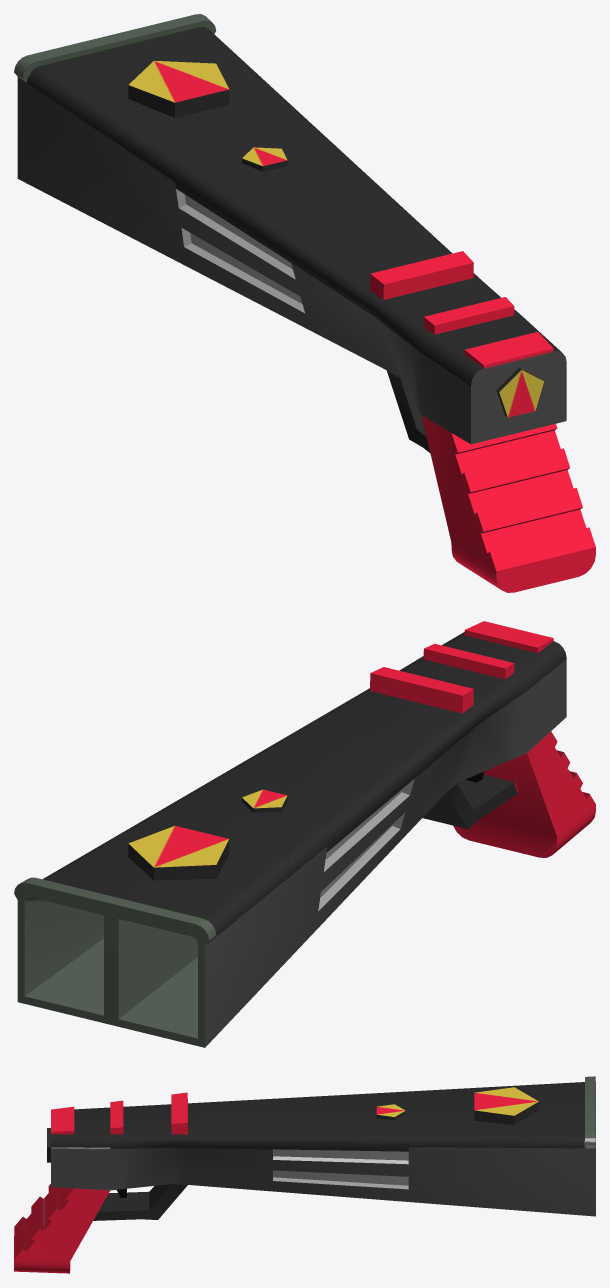
Rendered from Gun 2.fbx.
3 views of the same model, one above another, from view 1: azimuth 30°, elevation 25°; view 2: azimuth 150°, elevation 25°; view 3: azimuth 270°, elevation 25° (orthographic). The views are drawn at different scales.
Parts seen in each view (by area): view 1: Circle; view 2: Circle; view 3: Circle.
Boxes of the visible parts, box(x1,y1,x2,y2) form: Circle: box(14, 14, 595, 592); Circle: box(14, 621, 595, 1047); Circle: box(14, 1076, 595, 1273).
Bounding box in the file's own units: 252 × 294 × 974.
1 material, 1 textured.
